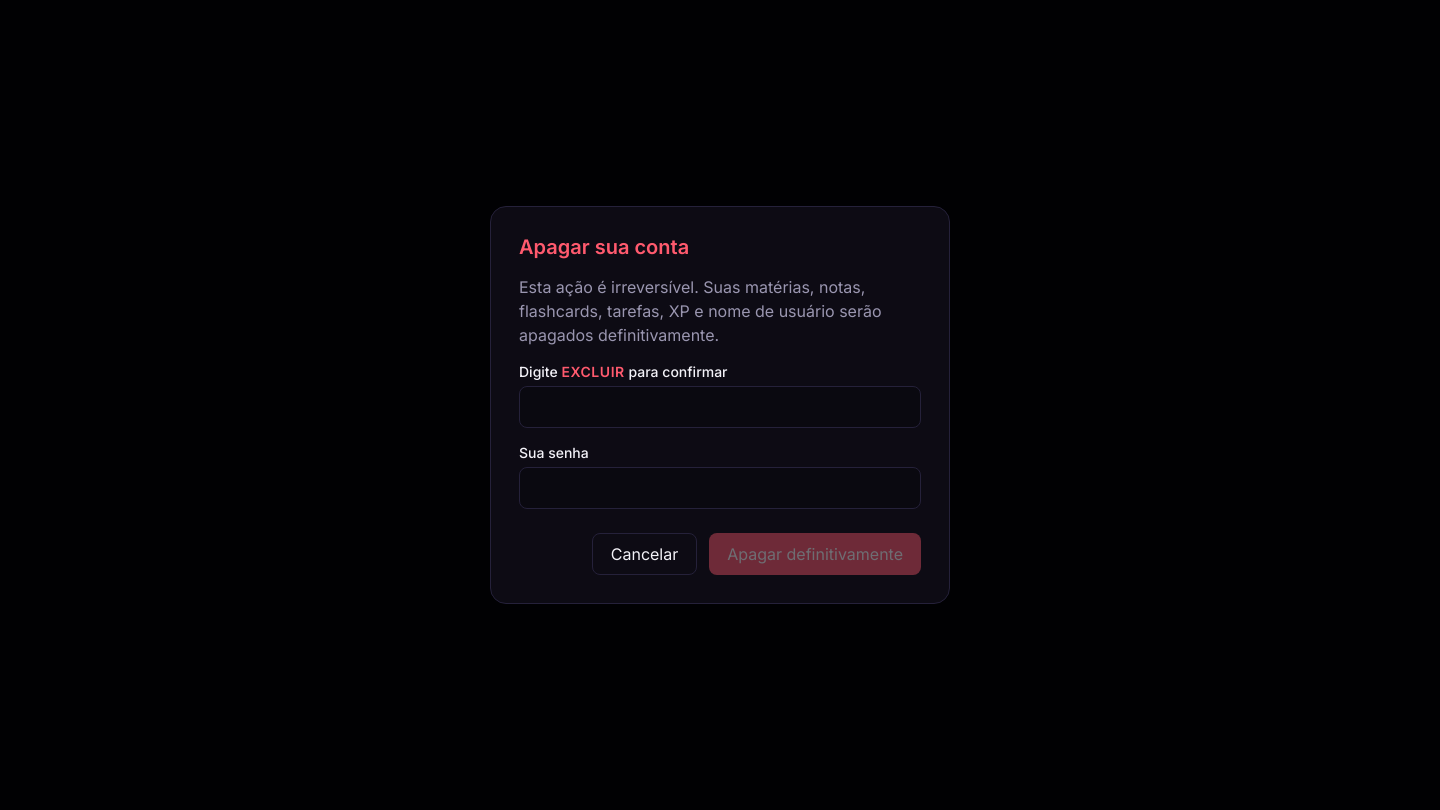
DeleteAccountDialog › falha na reautenticação mostra erro traduzido e não apaga
The image size is (1440, 810).
Step 1. Type "EXCLUIR" into the field labelled "Digite EXCLUIR para confirmar" → (720, 407), box [519,386,921,428]
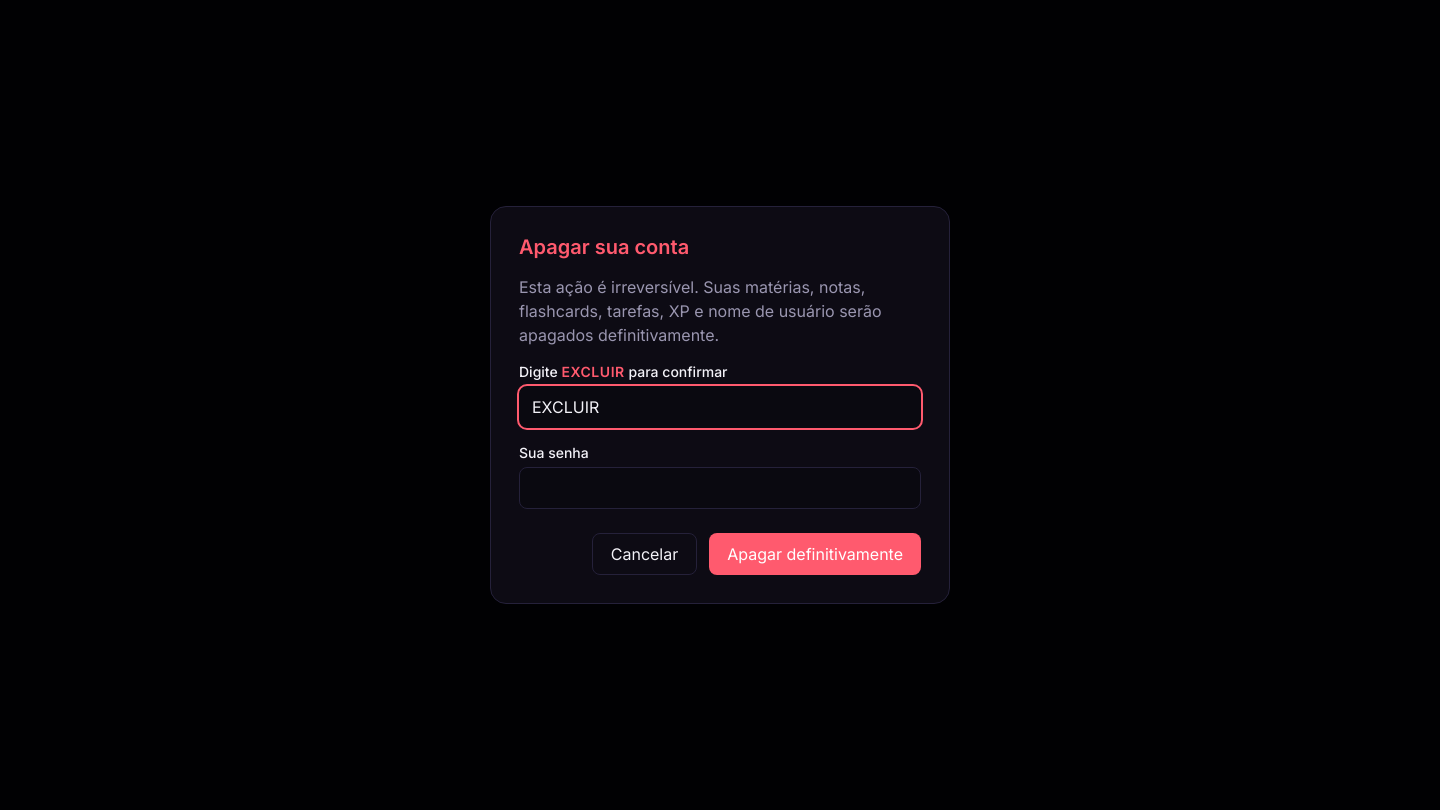
Step 2. Type "errada" into the password field labelled "Sua senha" → (720, 488), box [519,467,921,509]
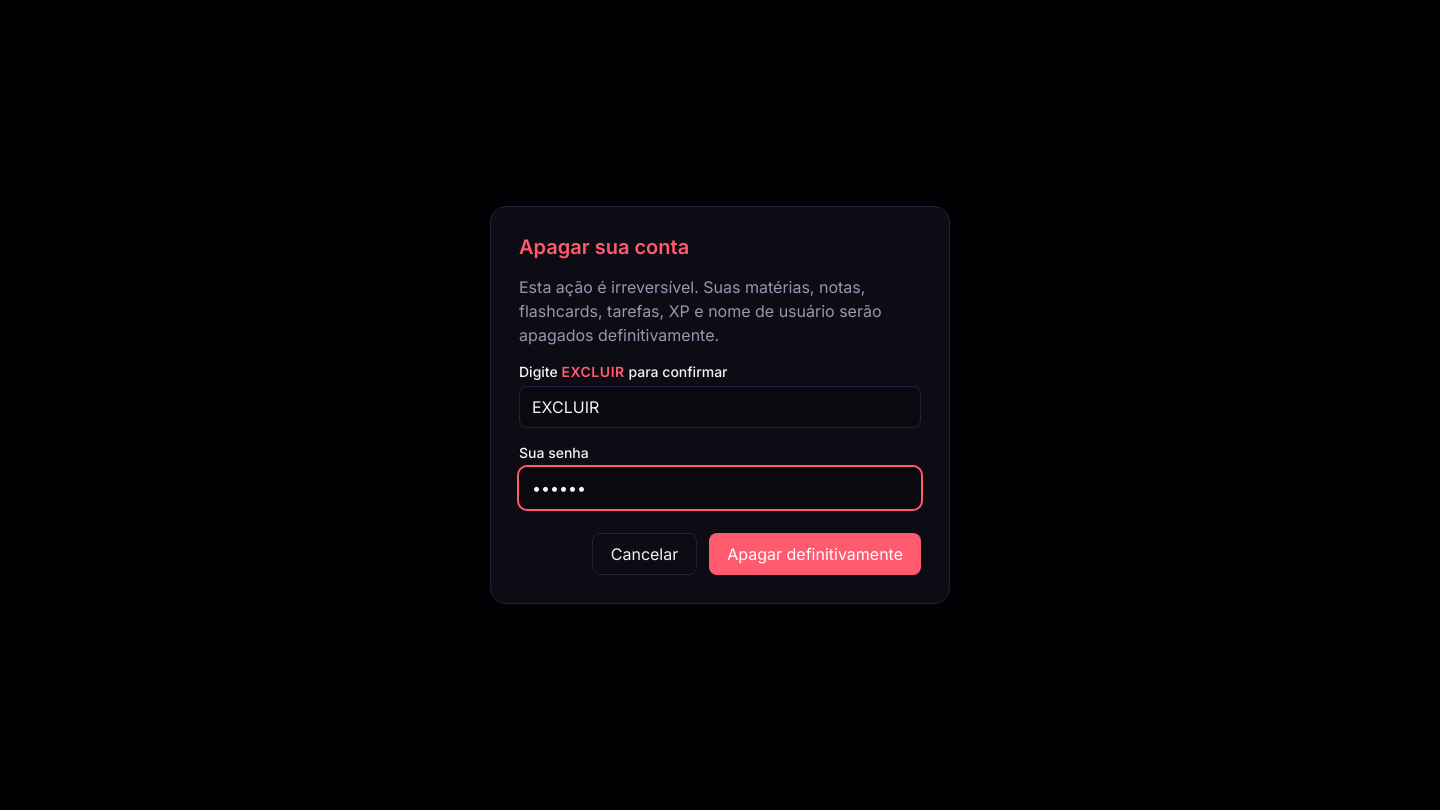
Step 3. Click the button "Apagar definitivamente" → (815, 554), box [709,533,921,575]
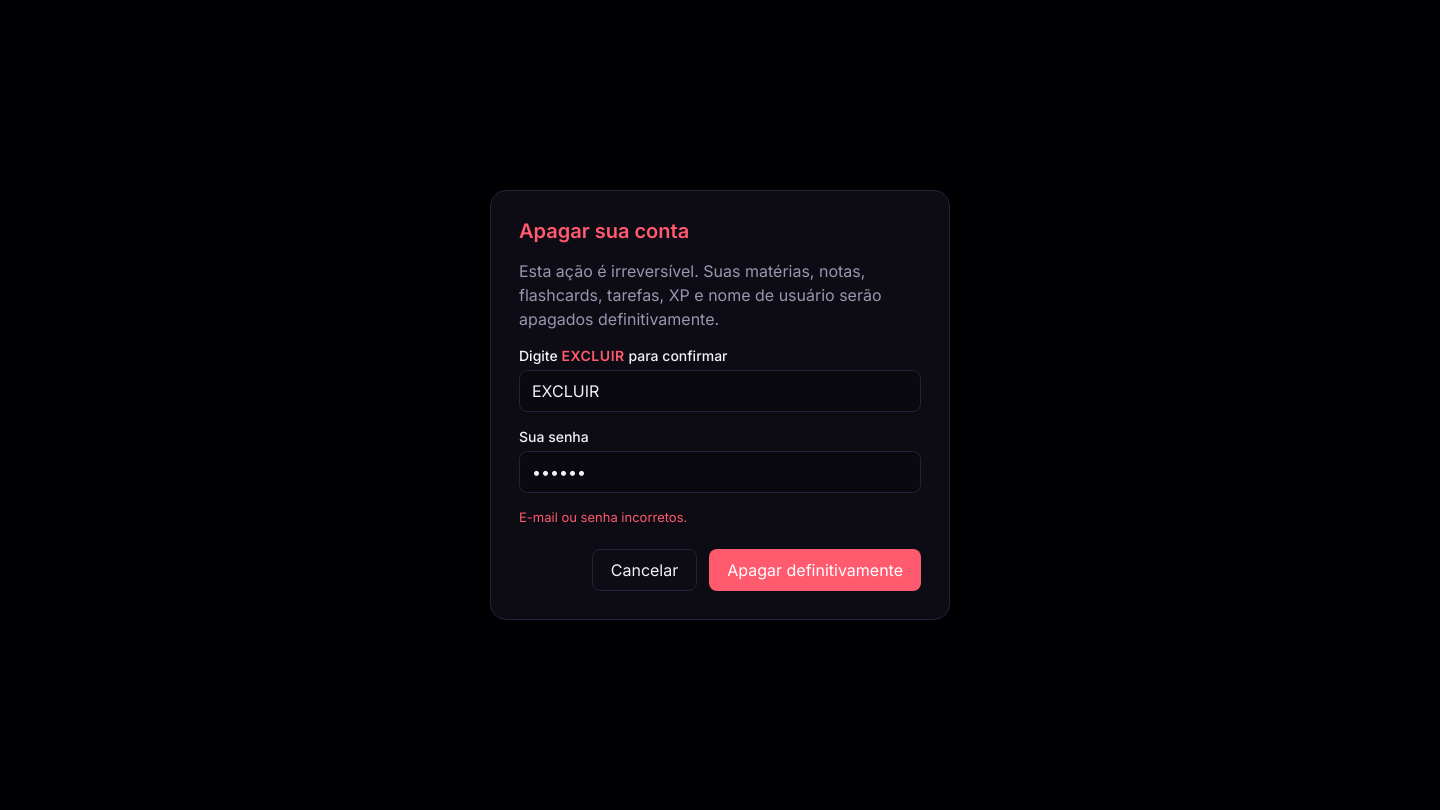
Check: the message reads "E-mail ou senha incorretos.", box [519,509,687,525]
